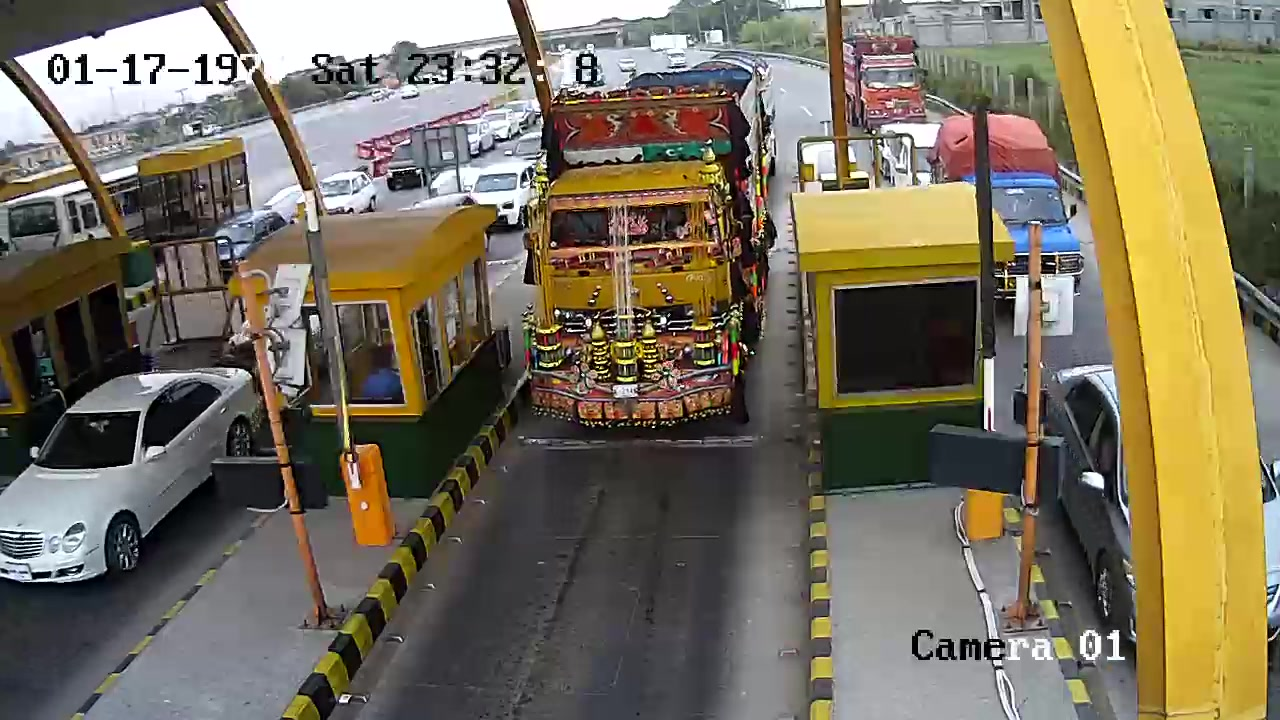F5: (523, 57, 781, 435)
